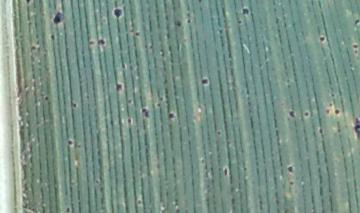tarspot: (52, 10, 64, 26), (352, 116, 360, 140), (139, 106, 152, 119), (111, 6, 123, 19), (163, 86, 170, 104), (96, 36, 106, 47), (167, 110, 177, 121), (114, 82, 123, 94), (241, 6, 250, 17), (200, 76, 209, 86), (286, 165, 295, 174), (222, 166, 229, 177), (215, 128, 222, 139), (318, 35, 326, 44), (174, 19, 182, 28), (49, 32, 56, 42), (87, 39, 97, 46), (288, 109, 295, 119), (29, 43, 37, 51), (126, 97, 134, 105), (127, 116, 133, 126), (318, 126, 324, 136), (72, 101, 79, 109), (353, 18, 360, 26), (302, 110, 310, 117), (154, 101, 162, 108), (162, 77, 169, 85), (133, 30, 140, 37), (64, 206, 71, 213), (136, 198, 142, 206), (67, 140, 73, 147), (43, 94, 49, 101), (334, 108, 340, 115), (351, 43, 359, 48), (330, 92, 336, 98), (186, 18, 192, 24), (353, 49, 360, 54), (325, 108, 330, 115), (288, 181, 296, 185), (236, 19, 242, 24), (328, 102, 333, 108), (24, 1, 31, 5), (186, 12, 190, 18), (196, 1, 202, 4)
